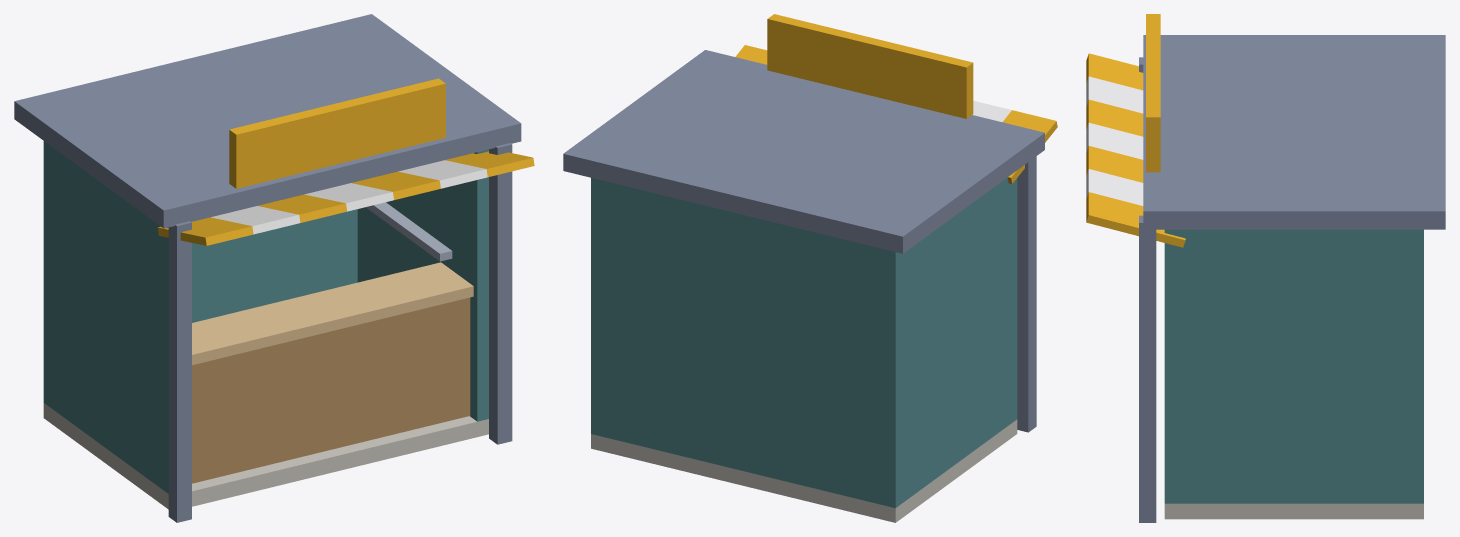
File: shop.glb
The picture shows the model from 3 angles, left to right: view 1: azimuth 30°, elevation 25°; view 2: azimuth 150°, elevation 25°; view 3: azimuth 270°, elevation 25°; orthographic projection. The views are drawn at different scales.
Parts seen in each view (by area): view 1: shop; view 2: shop; view 3: shop.
Boxes of the visible parts, x1,y1,x2,y2 form: shop: (14, 14, 534, 522); shop: (563, 14, 1057, 522); shop: (1086, 14, 1445, 522).
Bounding box in the file's own units: 2.9 × 2.87 × 2.49.
